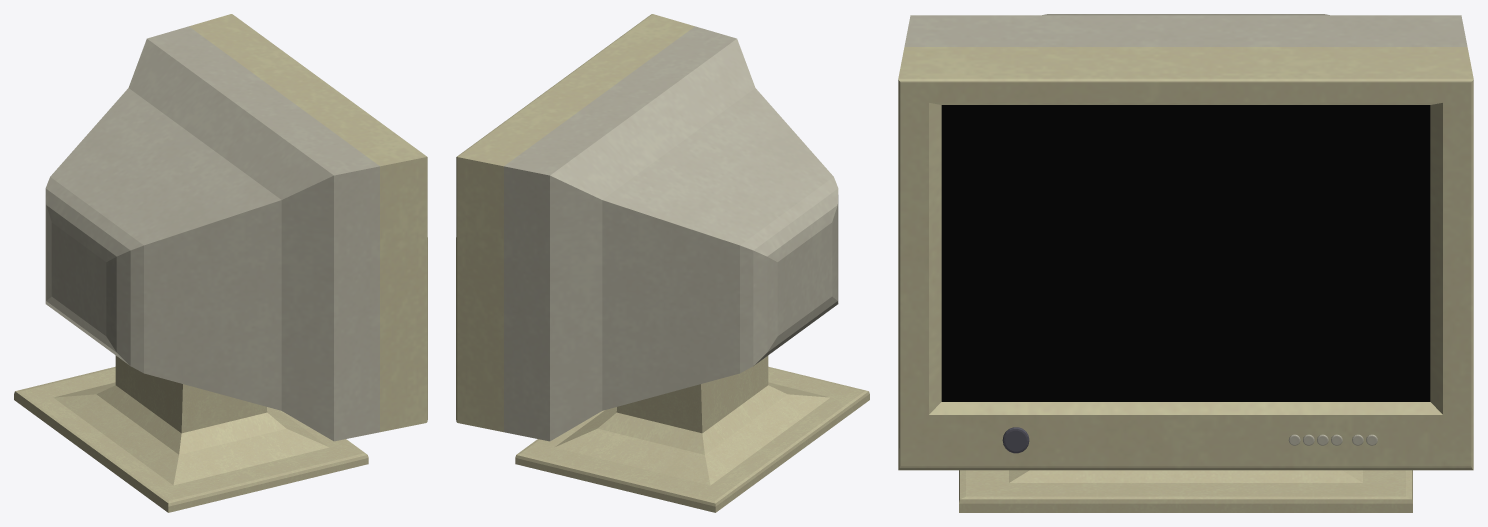
File: monitor.fbx
The picture shows the model from 3 angles, left to right: view 1: azimuth 30°, elevation 25°; view 2: azimuth 150°, elevation 25°; view 3: azimuth 270°, elevation 25°; orthographic projection. The views are drawn at different scales.
Visible parts, largest first — view 1: Cube, Cube.001; view 2: Cube, Cube.001; view 3: Cube.002, Cube, Cube.001.
Boxes of the visible parts, <box> form: Cube: <box>45,14,427,441</box>; Cube.001: <box>14,355,368,512</box>; Cube: <box>456,14,838,441</box>; Cube.001: <box>515,355,869,512</box>; Cube.002: <box>941,105,1430,401</box>; Cube: <box>898,14,1473,470</box>; Cube.001: <box>959,470,1412,512</box>.
Bounding box in the file's own units: 200 × 235 × 266.
Materials: 4 (2 with a texture image).
